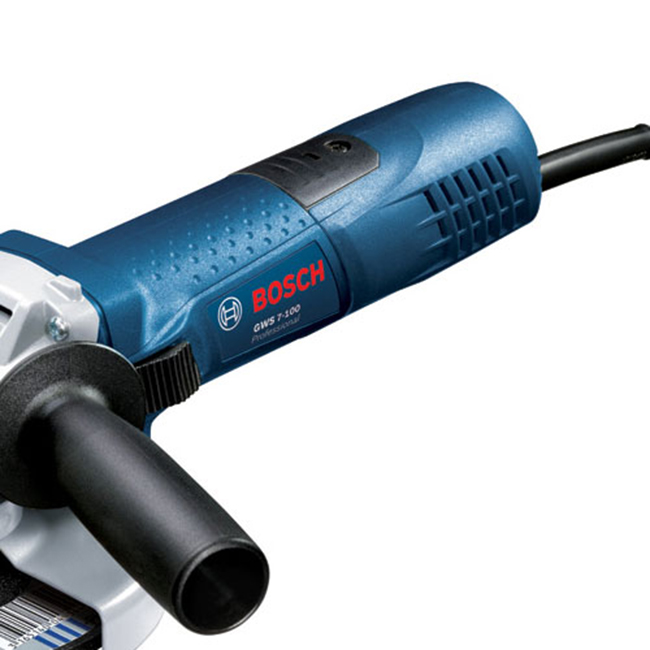Bosch: (245, 253, 340, 317)
